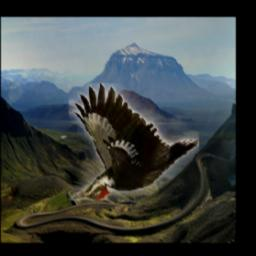Woodpecker: (69, 84, 199, 201)
